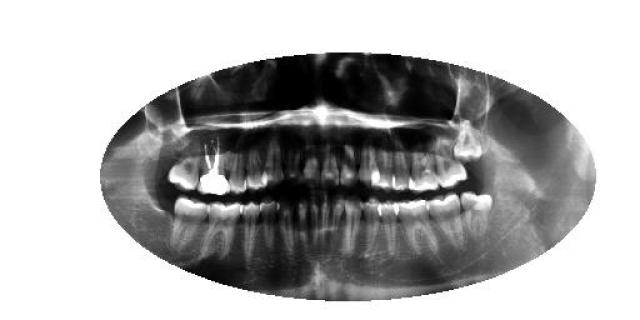Implant: (196, 138, 230, 196)
Restorations: (453, 120, 485, 164)
